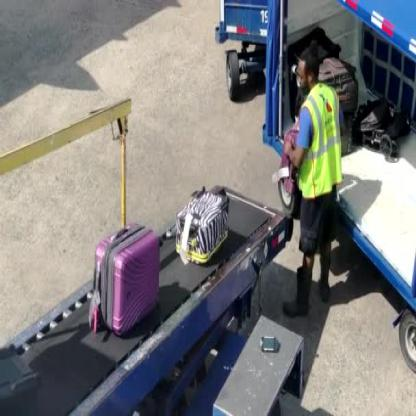baggagetruck: (1, 86, 310, 415)
